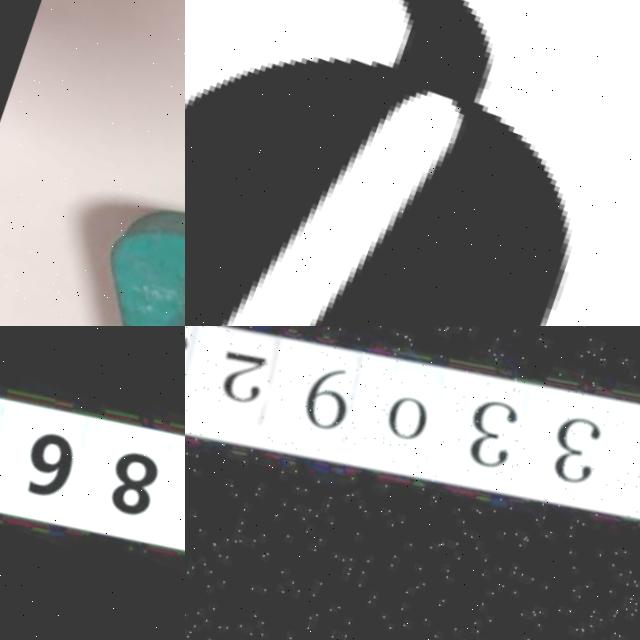0: (357, 370, 452, 477), (161, 448, 185, 570)
2: (191, 327, 289, 435), (602, 412, 640, 537)
3: (435, 381, 541, 499), (521, 400, 623, 515), (185, 326, 208, 416)
6: (0, 414, 98, 529)
8: (81, 435, 180, 546)
9: (274, 345, 375, 459)
D: (44, 158, 185, 326)
Q: (185, 0, 640, 326)
